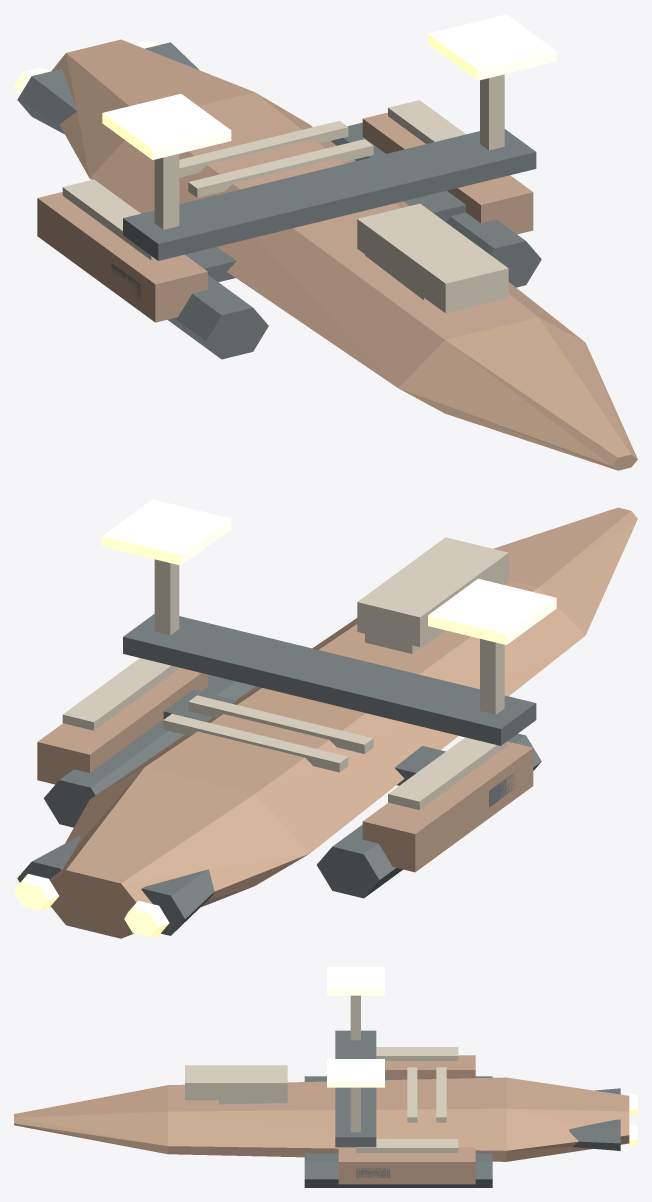
3 renders of one model, top to bottom at view 1: azimuth 30°, elevation 25°; view 2: azimuth 150°, elevation 25°; view 3: azimuth 270°, elevation 25°, orthographic. The views are drawn at different scales.
Size of the model in its own units: 3.54 by 1.76 by 8.18.
